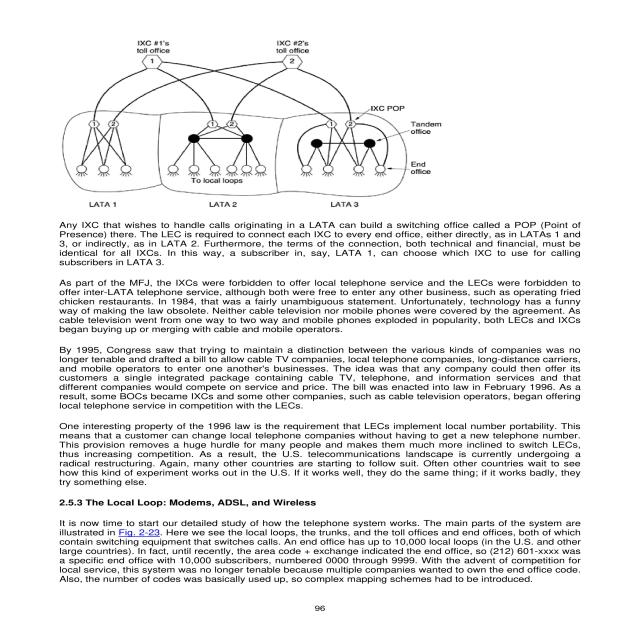diagram: (63, 26, 534, 219)
